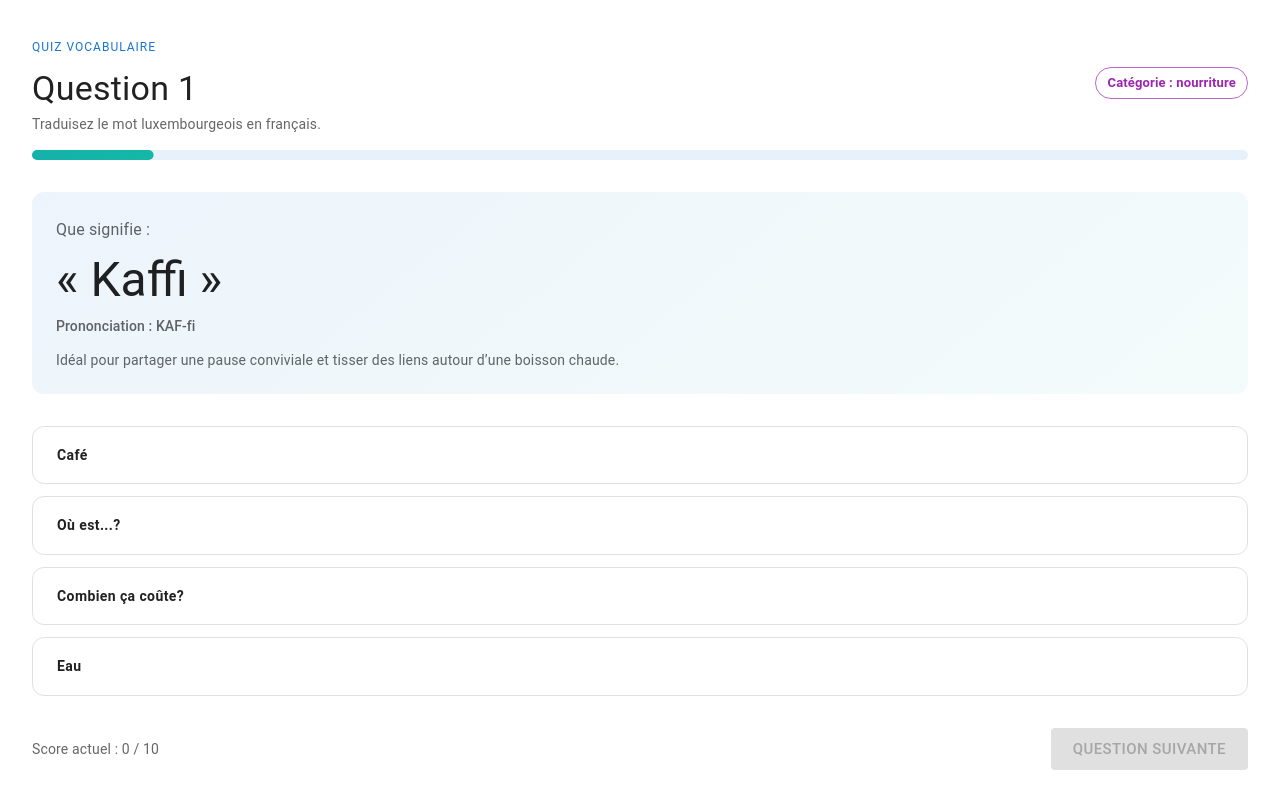
Scenario: VocabularyQuiz › moves to the next question after a correct answer
This screenshot has width=1280, height=800.
Check: the heading "Question 1" is shown, box [32,68,197,108]
What coordinates should you click on to do the following:
click the button "Café"
I would click on:
 (72, 455)
Its box is [32,426,1248,484].
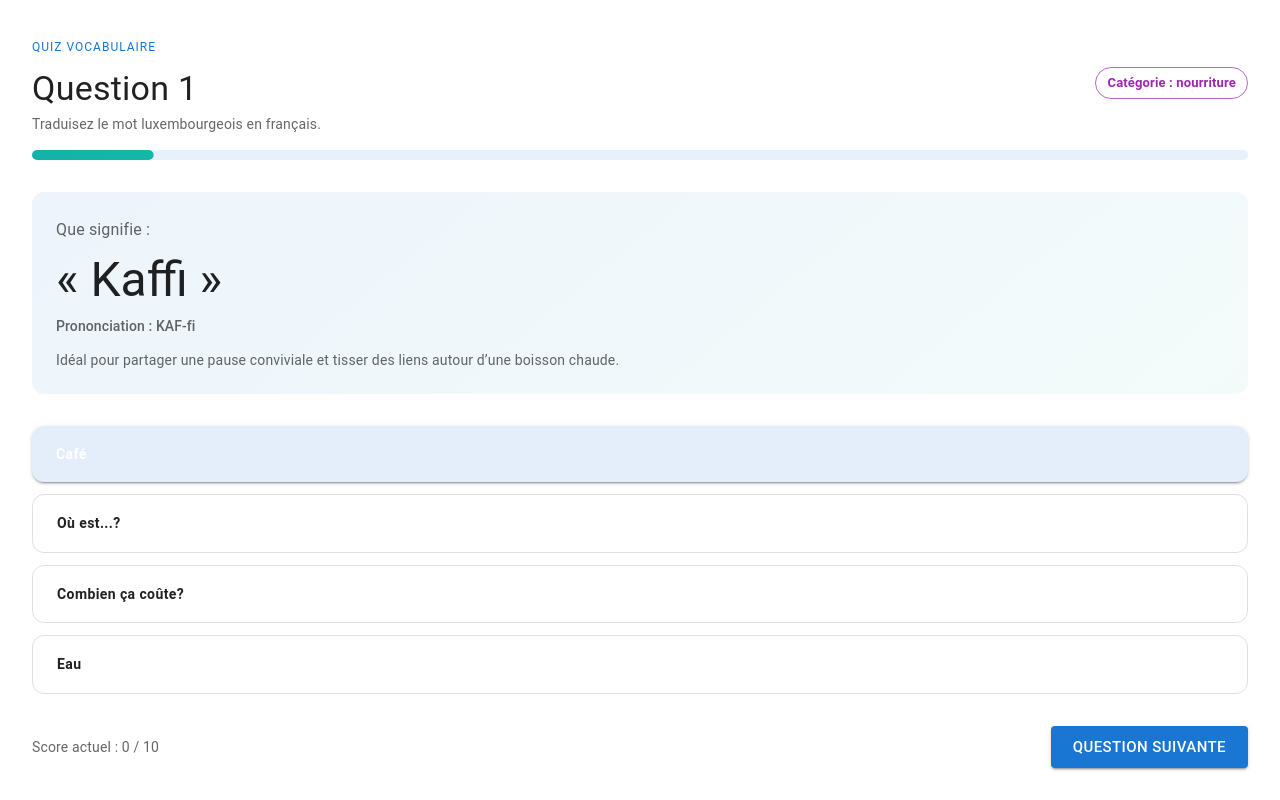
What coordinates should you click on to do the following:
click the button "Question suivante"
I would click on:
 (1149, 747)
Its box is [1051,726,1248,768].
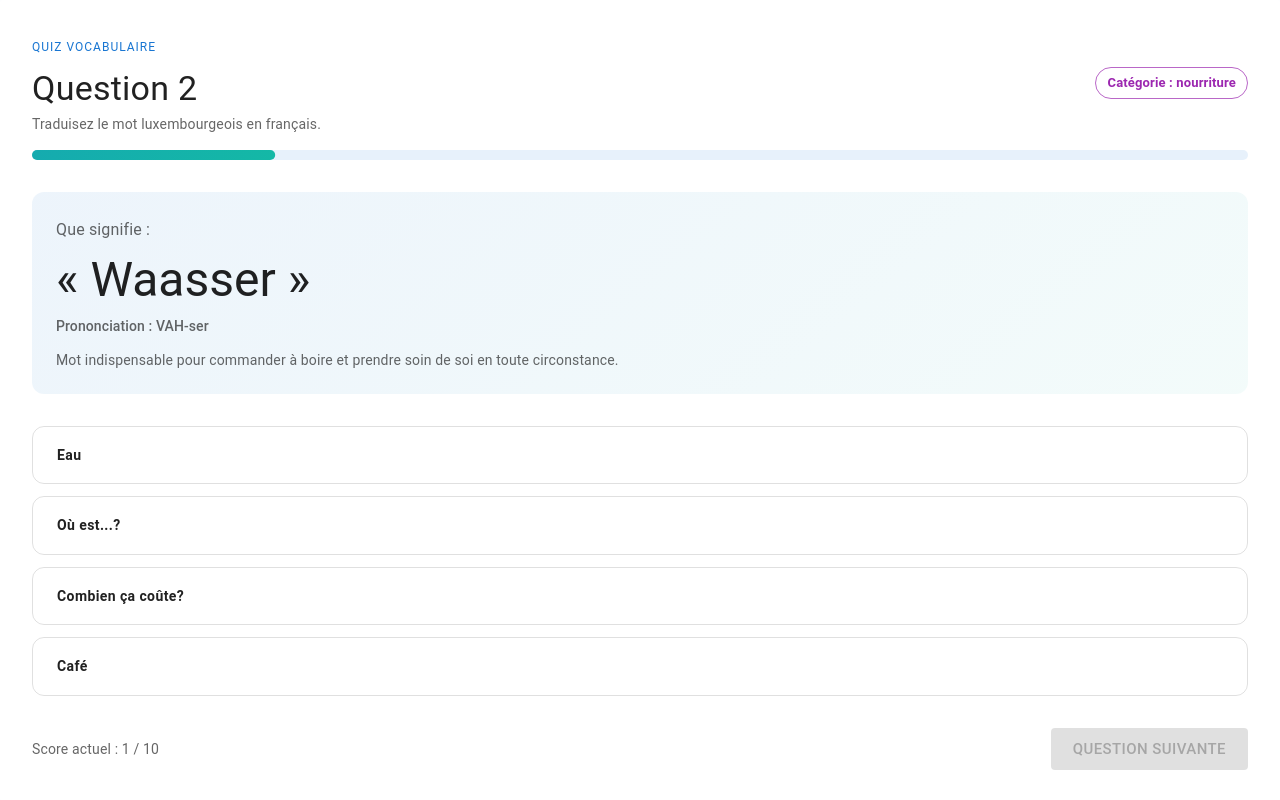
Check: the heading "Question 2" is shown, box [32,68,197,108]
Check: the text "Score actuel : 1 / 10" is shown, box [32,739,159,759]
